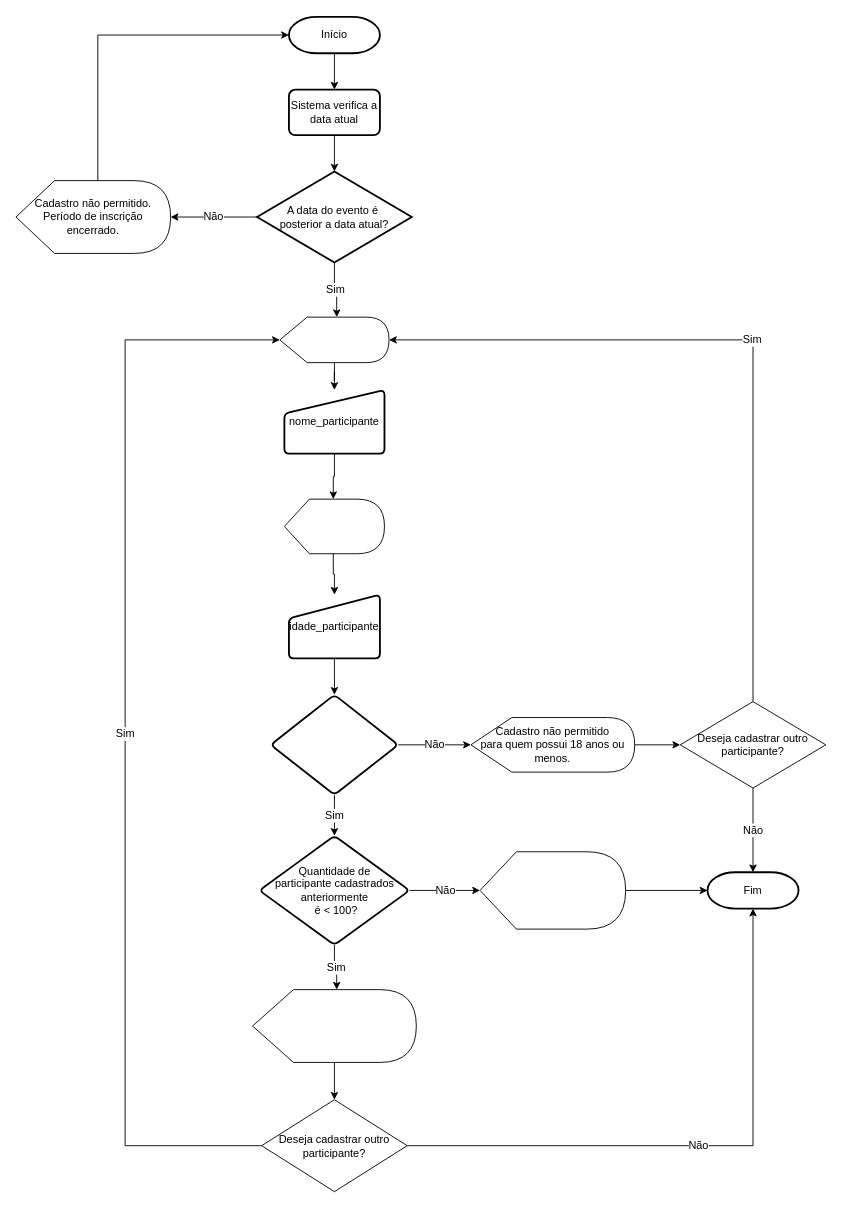
Some shapes in this 842 by 1208 pixel diagram are drawn without their labels. The shapes that lost their labels are listed below. From the top down, each one's centre as x and y in pixels, then its label:
At (334,339): "Digite o nome completo do participante:".
At (333,526): "Digite a idade do participante:".
At (334,744): "Idade do participante é > 18".
At (552,890): "Cadastro não permitido. Limite de participante excedido.".
At (334,1025): "Lista de participante e palestrantes do evento.".
